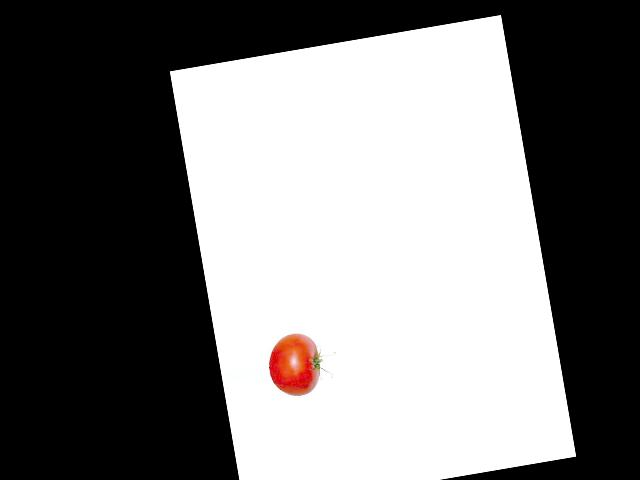tomato: (263, 329, 324, 399)
